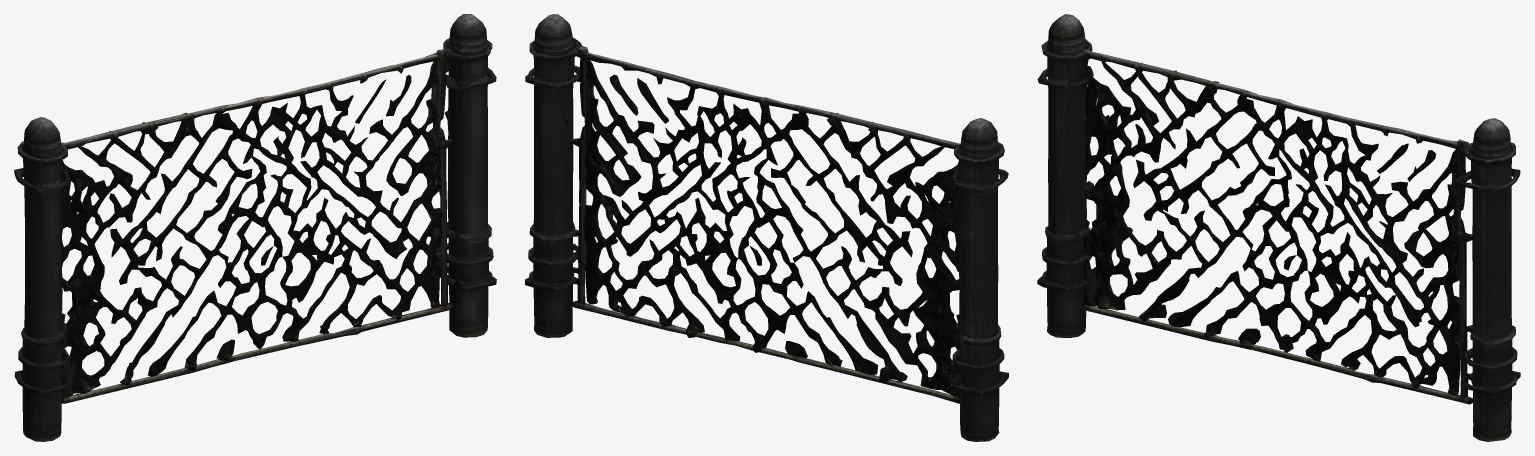
File: chainfence.glb
The picture shows the model from 3 angles, left to right: view 1: azimuth 30°, elevation 25°; view 2: azimuth 150°, elevation 25°; view 3: azimuth 330°, elevation 25°; orthographic projection.
Parts seen in each view (by area): view 1: geometry_0; view 2: geometry_0; view 3: geometry_0.
Boxes of the visible parts, x1=… form: geometry_0: x1=14, y1=14, x2=496, y2=441; geometry_0: x1=525, y1=14, x2=1008, y2=441; geometry_0: x1=1037, y1=14, x2=1520, y2=441.
Size of the model in its own units: 0.9995 by 0.6436 by 0.0995.
Materials: 1 (1 with a texture image).
